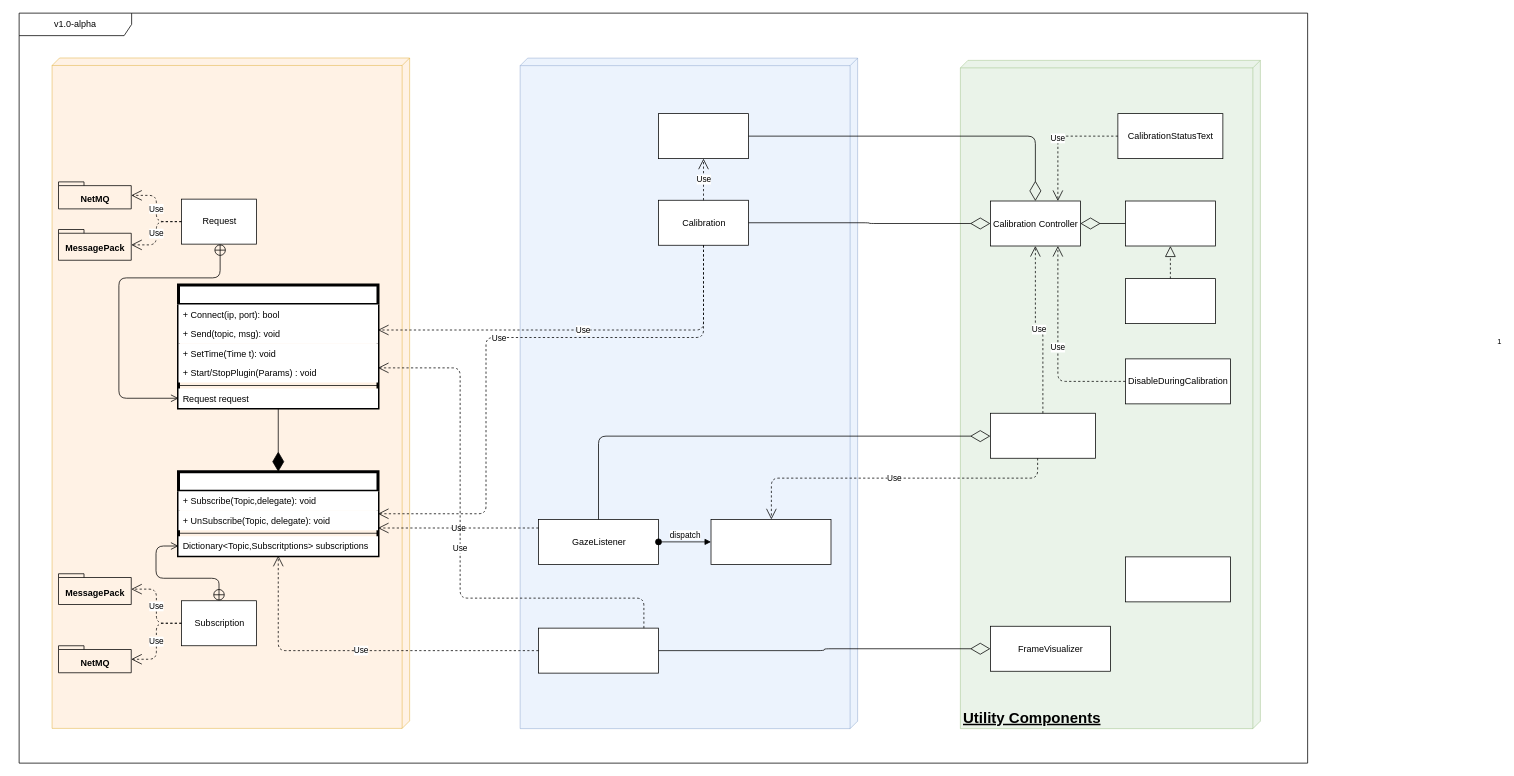
Image size: 1514x776. Some labels were removed from this diagram. The shapes that lost their labels are listed below. From the top down, each one's box as (x1, y1, x2, y2) in pixels, then its label:
(658, 113, 748, 159): Calibration Settings
(1125, 200, 1215, 246): Calibration Targets
(1125, 278, 1215, 324): Circle Calibration Targets
(177, 283, 379, 409): RequestController
(51, 57, 410, 728): Low Level API (Pupil Connection)
(519, 57, 858, 729): High Level API (Pupil Communication)
(990, 412, 1095, 458): GazeVisualizer
(177, 470, 379, 557): SubscriptionsController
(710, 519, 831, 564): GazeData
(1125, 556, 1230, 602): Helpers
(538, 627, 658, 673): FrameListener
